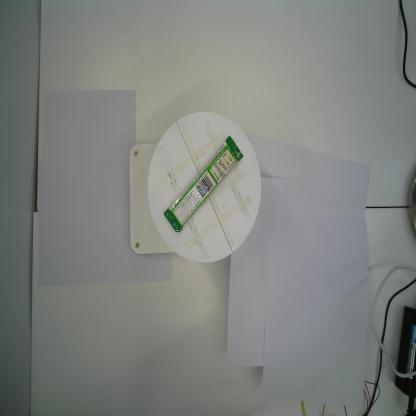Chocolate: (162, 132, 244, 234)
